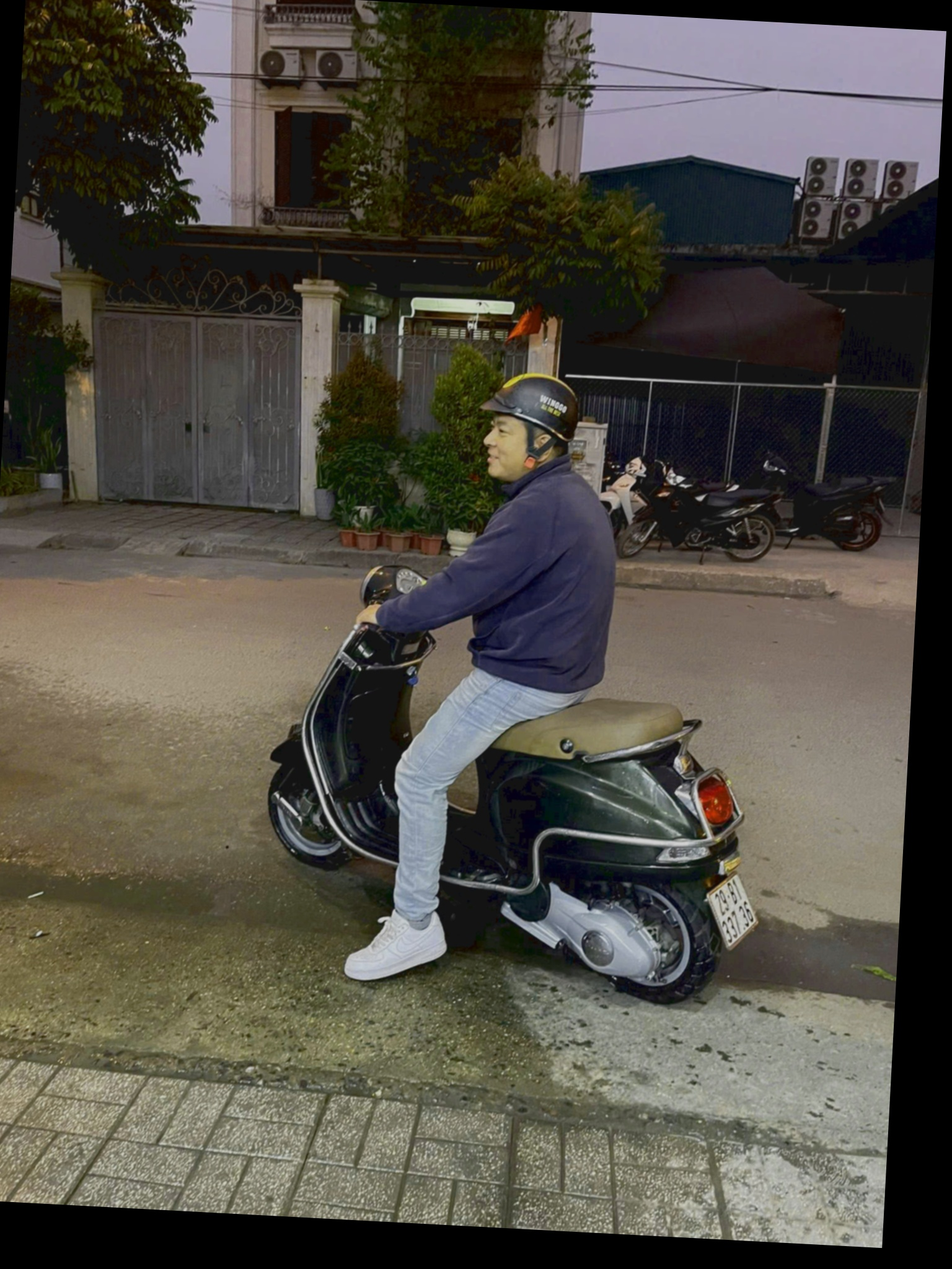Bien-so: (683, 876, 747, 957)
